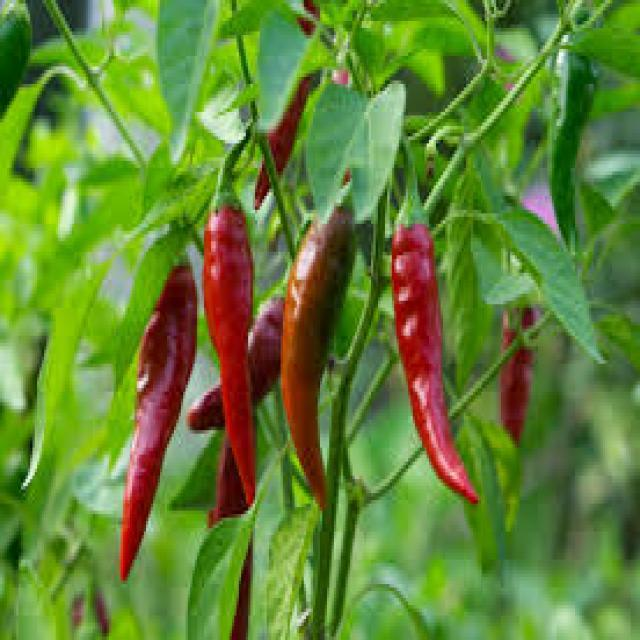Pepper: (368, 204, 488, 508), (262, 177, 357, 497), (185, 135, 255, 528), (118, 277, 189, 578)
